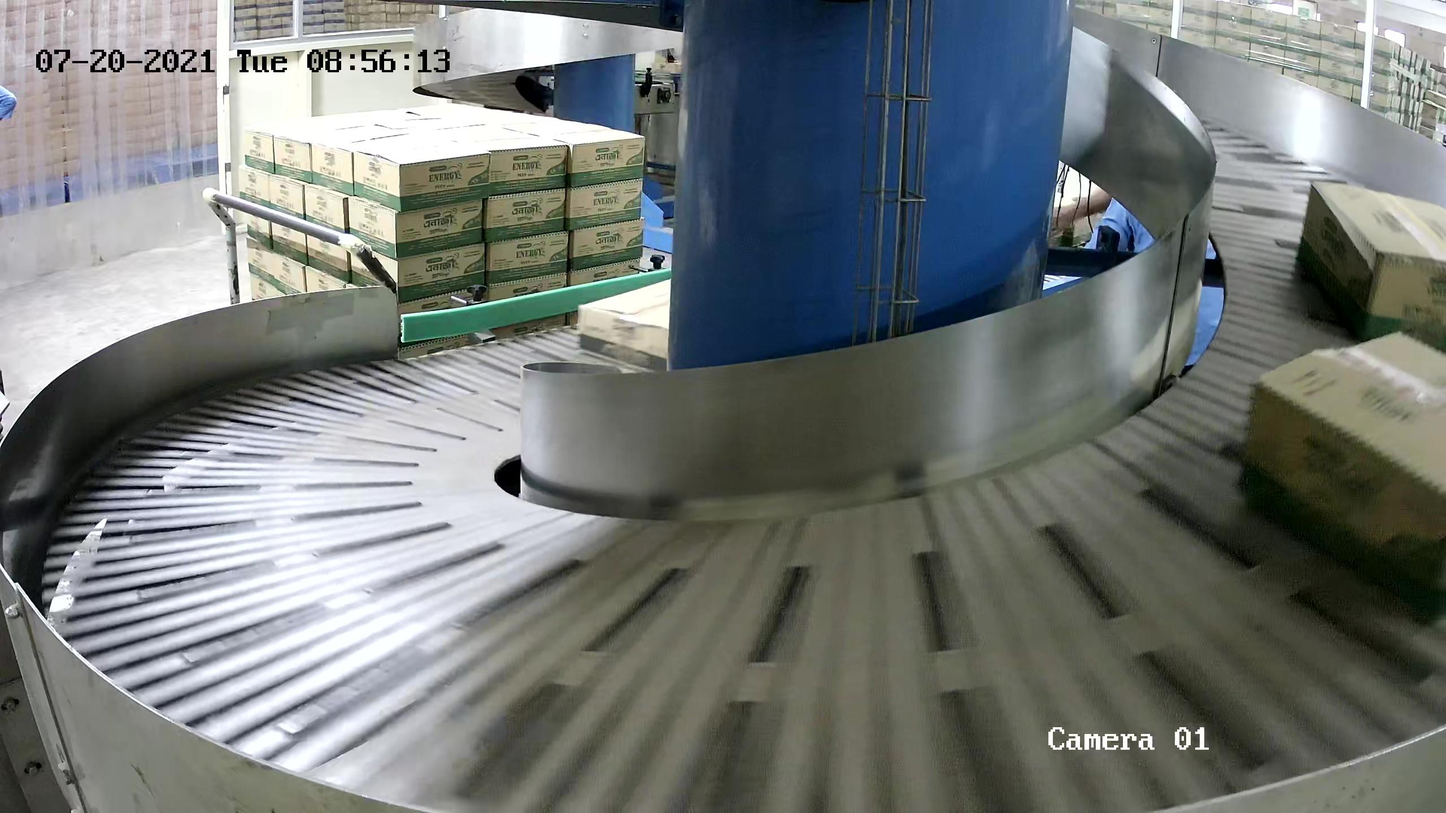Box: (1236, 329, 1446, 630), (1296, 180, 1446, 354), (577, 278, 671, 373)
